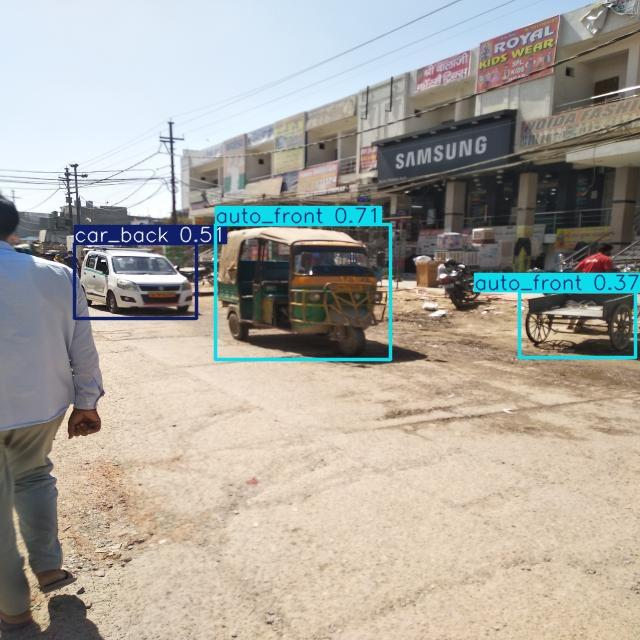auto_front: (212, 218, 399, 360)
car_front: (73, 244, 208, 320)
